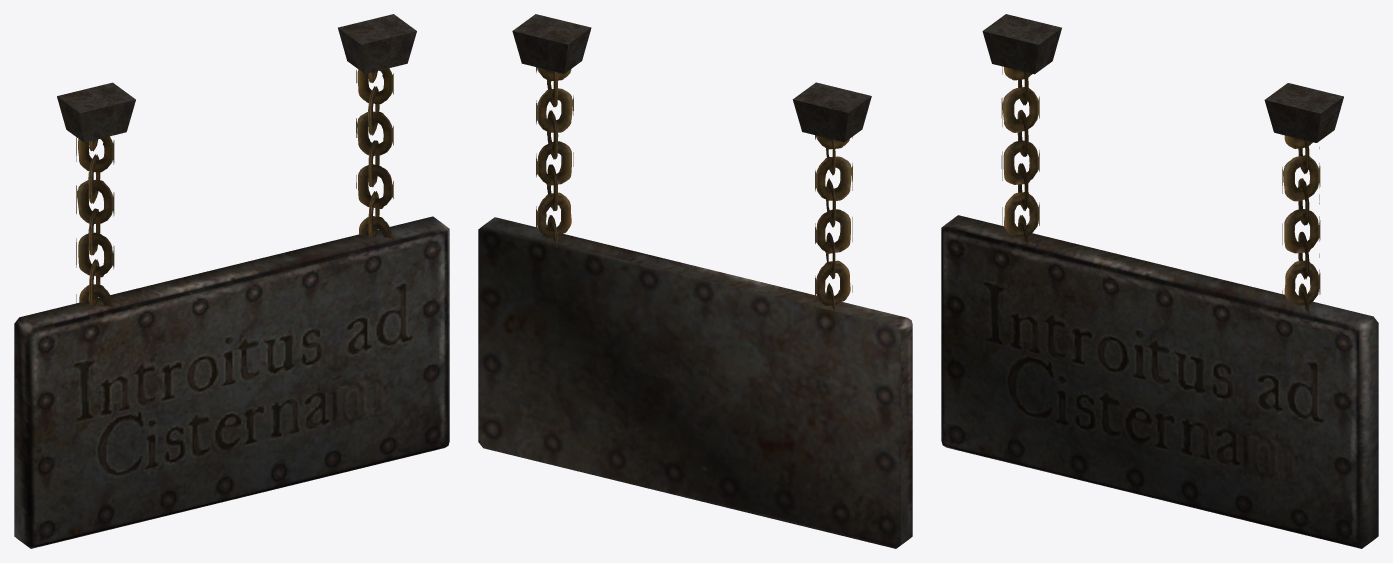
Rendered from sign_cistern_entrance_chain.dae.
3 renders of one model, left to right at view 1: azimuth 30°, elevation 25°; view 2: azimuth 150°, elevation 25°; view 3: azimuth 330°, elevation 25°, orthographic.
Visible parts, largest first — view 1: Box02; view 2: Box02; view 3: Box02.
Part boxes in pixels (x1,y1,x2,y2): Box02: (14,14,449,548); Box02: (478,14,912,548); Box02: (941,14,1378,548).
Size of the model in its own units: 0.6037 by 0.0577 by 0.5857.
